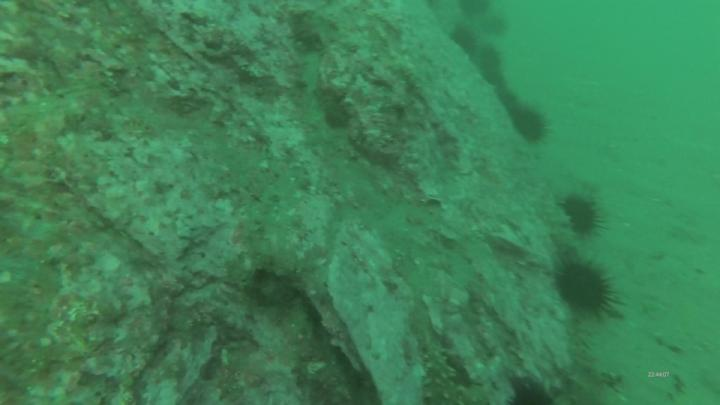echinus: (555, 252, 619, 317), (559, 192, 605, 239), (507, 103, 552, 148), (509, 375, 561, 405), (448, 24, 482, 56), (476, 64, 509, 93), (497, 88, 528, 117), (475, 43, 503, 73), (454, 1, 494, 21), (483, 16, 509, 38)
holothurian: (418, 346, 465, 405)
